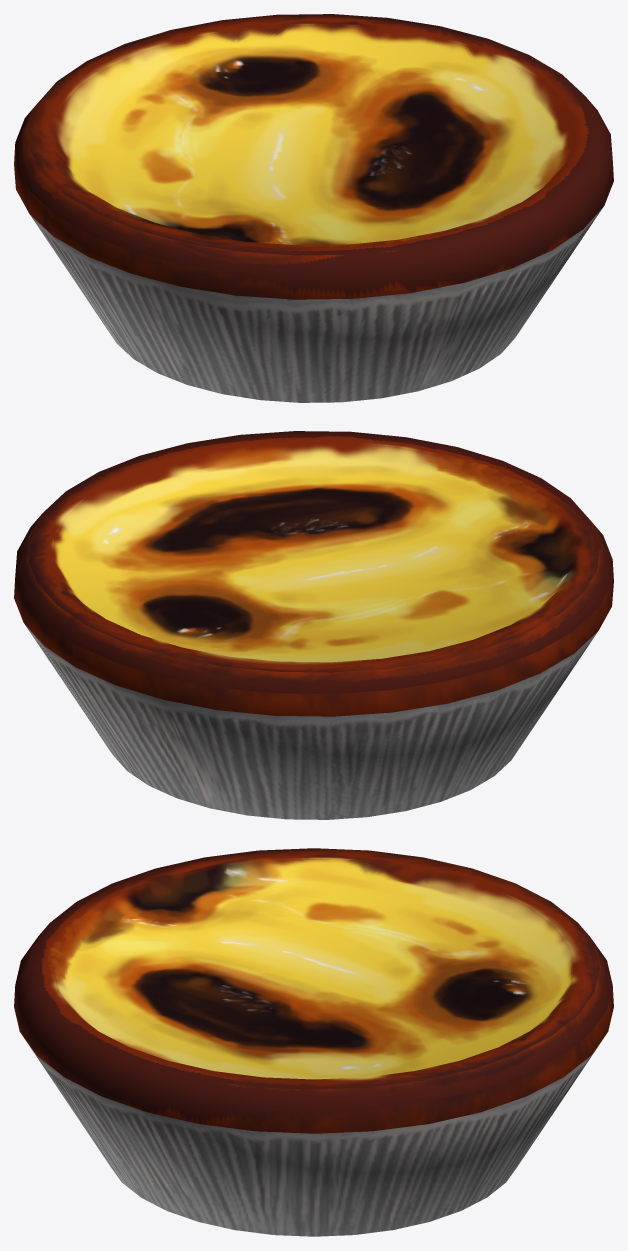
Rendered from pastel.fbx.
3 views of the same model, one above another, from view 1: azimuth 30°, elevation 25°; view 2: azimuth 150°, elevation 25°; view 3: azimuth 270°, elevation 25° (orthographic).
Parts seen in each view (by area): view 1: Cylinder; view 2: Cylinder; view 3: Cylinder.
Part boxes in pixels (x1,y1,x2,y2): Cylinder: (14, 14, 613, 402); Cylinder: (14, 431, 613, 819); Cylinder: (14, 848, 613, 1236).
Size of the model in its own units: 182 by 60.25 by 182.
